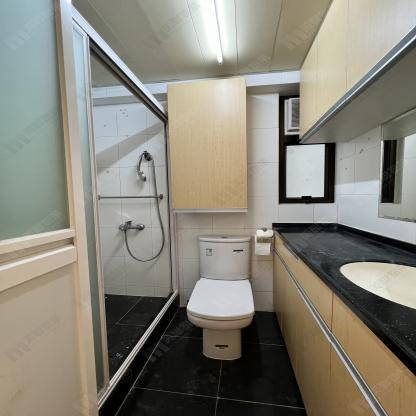Toilet: (186, 235, 255, 359)
Toilet Sink: (307, 252, 416, 336)
Water Cubicle: (73, 6, 182, 416)
